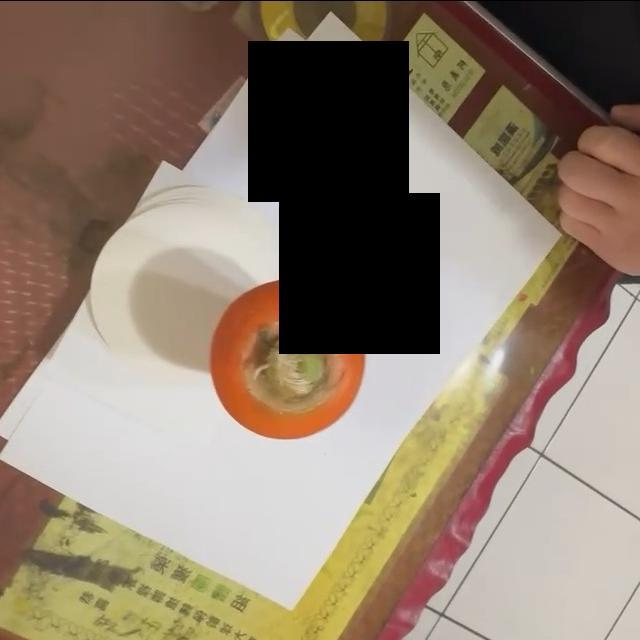carrot: (212, 275, 371, 439)
